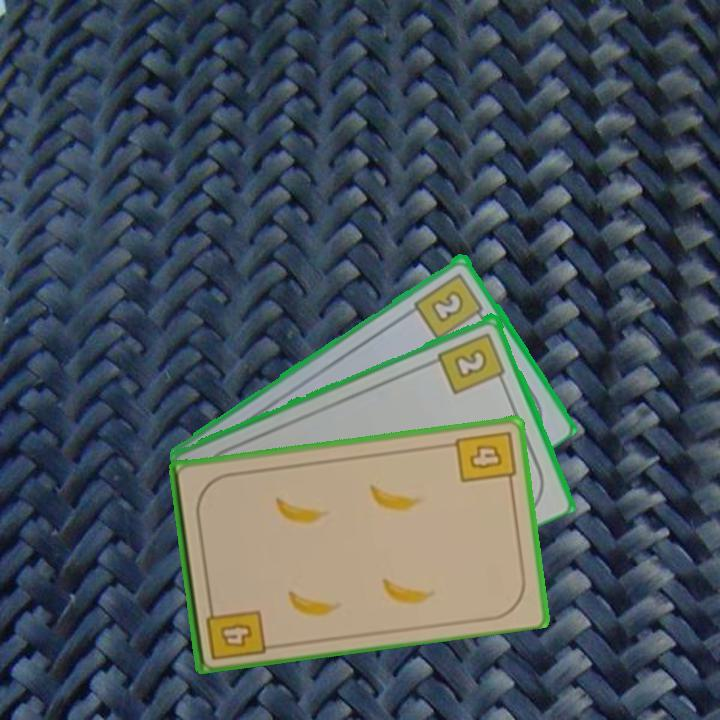2b: (410, 269, 489, 342), (435, 328, 509, 397)
4b: (202, 597, 268, 663), (452, 427, 518, 489)
